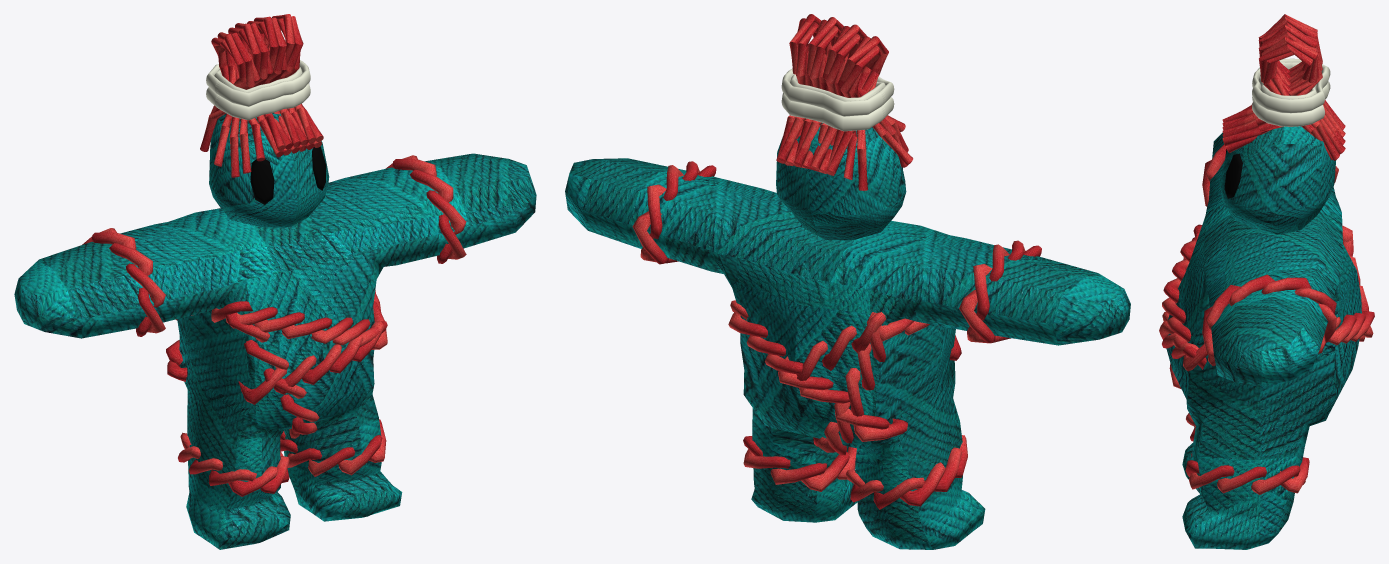
File: the_Pacifist_textured.fbx
3 renders of one model, left to right at view 1: azimuth 30°, elevation 25°; view 2: azimuth 150°, elevation 25°; view 3: azimuth 270°, elevation 25°, orthographic. The views are drawn at different scales.
Parts seen in each view (by area): view 1: body1, stitchEasy, yarn_Strand_4, pCylinder9, yarn_Strand_1, yarn_Strand_2, yarn_Strand_3; view 2: body1, stitchEasy, yarn_Strand_4, pCylinder9, yarn_Strand_2, yarn_Strand_1, yarn_Strand_3; view 3: body1, stitchEasy, yarn_Strand_3, pCylinder9, yarn_Strand_2, yarn_Strand_1, yarn_Strand_4.
Boxes of the visible parts, <box> form: body1: <box>14,113,536,549</box>; stitchEasy: <box>82,155,466,496</box>; yarn_Strand_4: <box>200,32,265,177</box>; pCylinder9: <box>206,60,310,120</box>; yarn_Strand_1: <box>228,23,292,157</box>; yarn_Strand_2: <box>247,16,308,153</box>; yarn_Strand_3: <box>264,14,323,149</box>; body1: <box>565,123,1130,549</box>; stitchEasy: <box>632,161,1041,509</box>; yarn_Strand_4: <box>826,36,913,190</box>; pCylinder9: <box>781,68,894,131</box>; yarn_Strand_2: <box>793,17,848,169</box>; yarn_Strand_1: <box>810,24,866,173</box>; yarn_Strand_3: <box>776,14,831,165</box>; body1: <box>1166,126,1361,549</box>; stitchEasy: <box>1159,144,1374,494</box>; yarn_Strand_3: <box>1222,37,1345,160</box>; pCylinder9: <box>1252,58,1330,126</box>; yarn_Strand_2: <box>1222,25,1345,144</box>; yarn_Strand_1: <box>1222,17,1345,137</box>; yarn_Strand_4: <box>1243,14,1345,129</box>.
Size of the model in its own units: 7.86 by 7.12 by 2.87.
